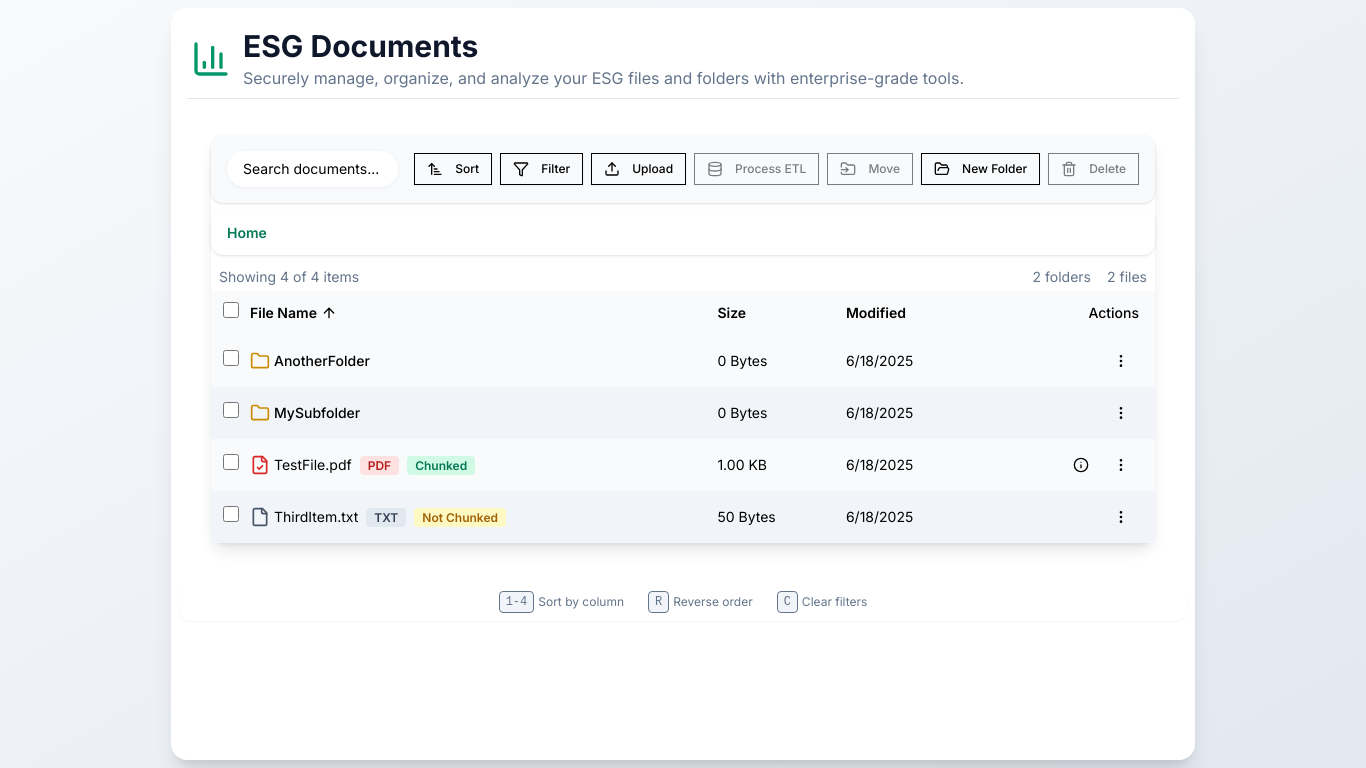
Test: Delete Functionality › should correctly delete an item from a subfolder
Click the text "MySubfolder" at (317,412), box x1=274 y1=402 x2=360 y2=422
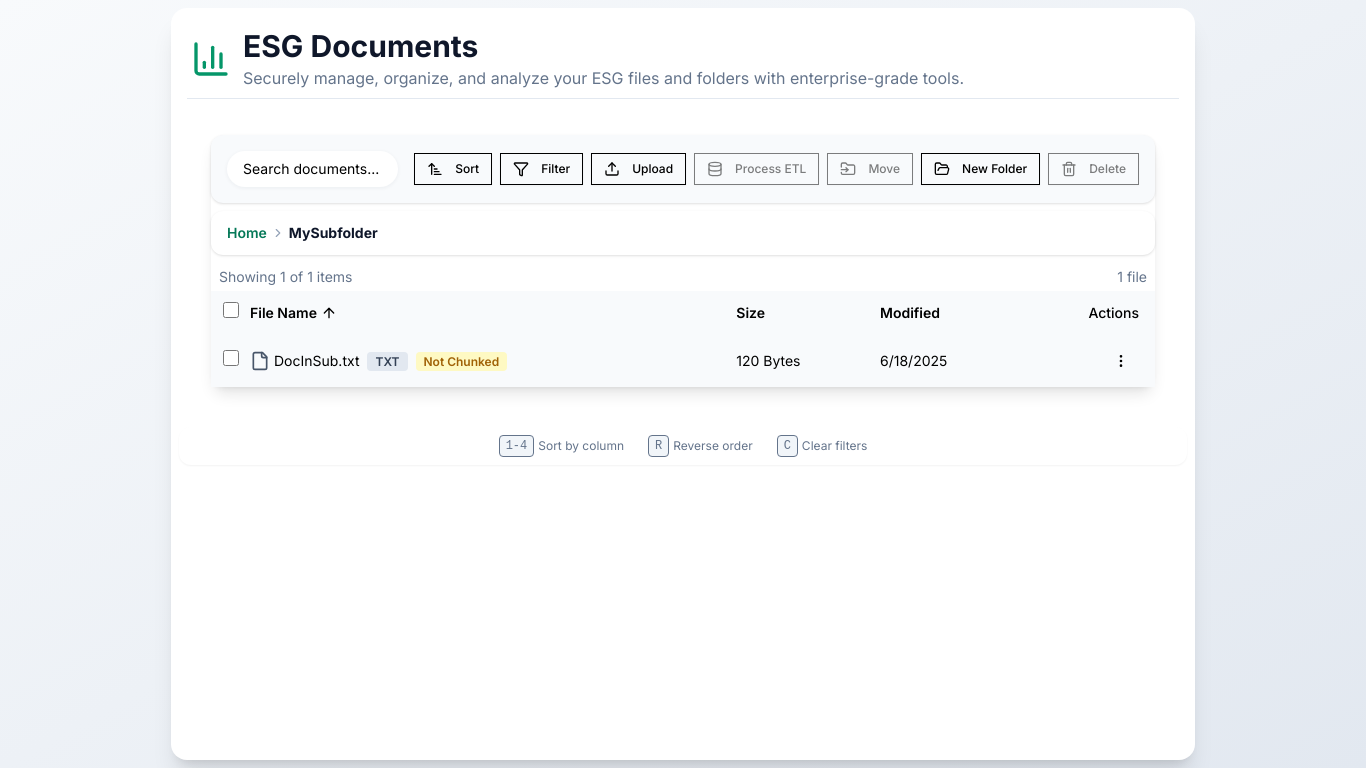
Expected: the text "DocInSub.txt" is shown, x1=274 y1=352 x2=360 y2=368
Click the 2nd checkbox at (231,358), box x1=223 y1=350 x2=239 y2=366
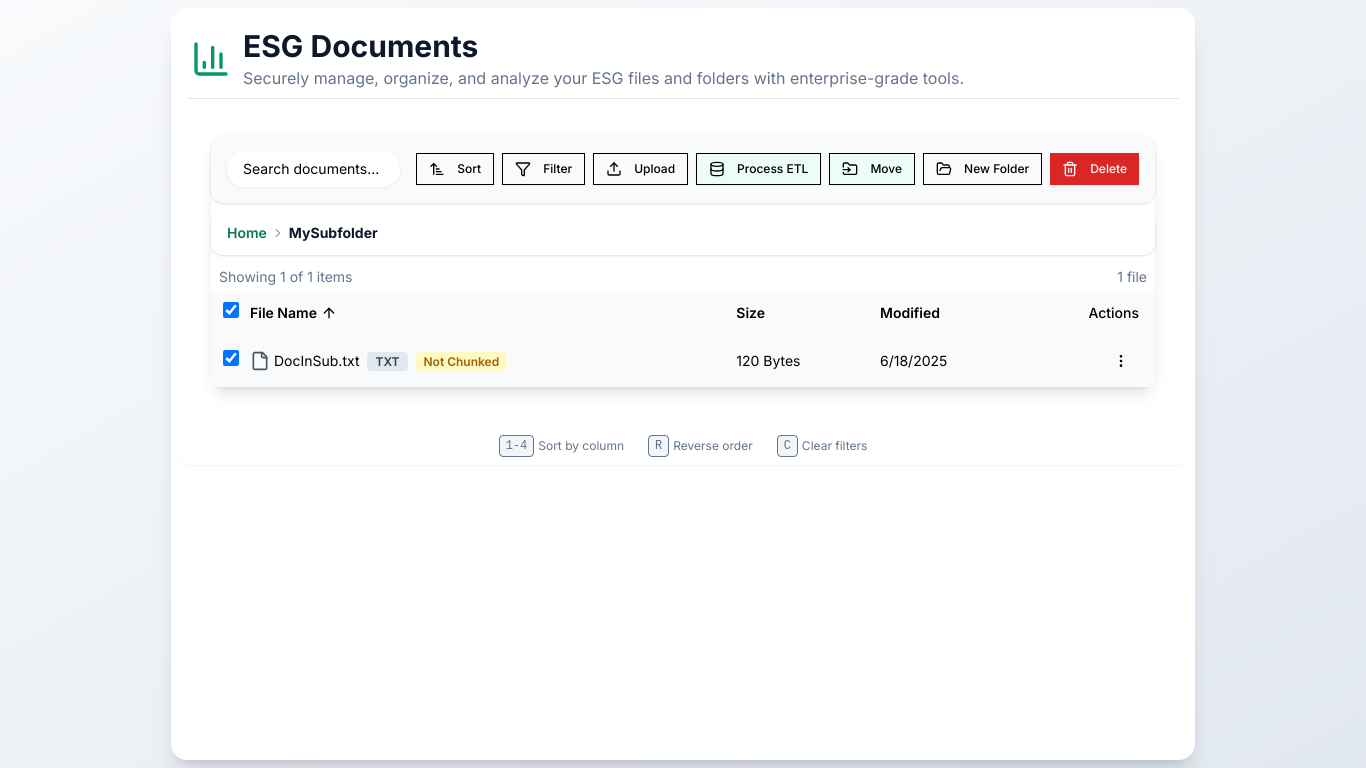
Expected: the 2nd checkbox is checked, x1=223 y1=350 x2=239 y2=366
Expected: the button "Delete" is enabled
Click the Delete button
Click the button "Delete" at (1095,168), box x1=1050 y1=152 x2=1139 y2=184
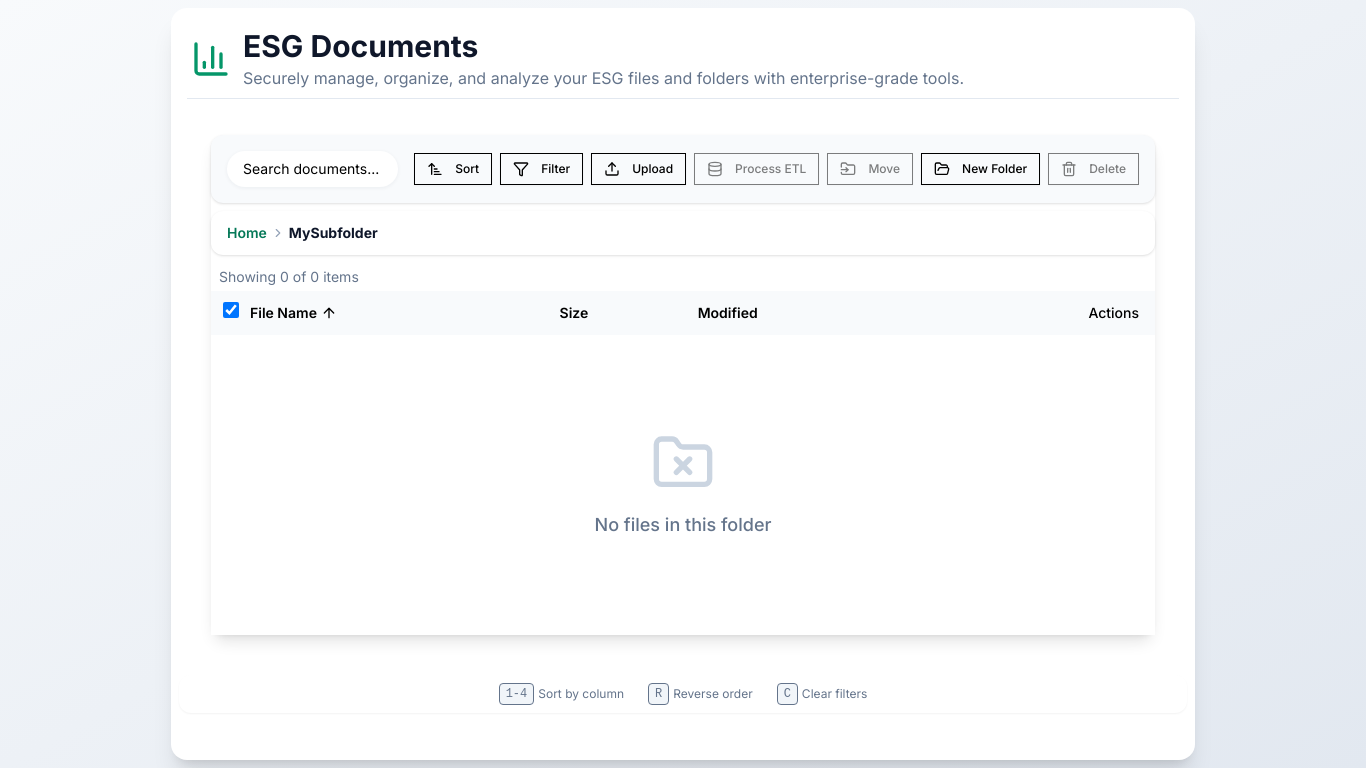
Expected: the text "DocInSub.txt" is gone
Expected: the text "No files in this folder" is shown, x1=594 y1=510 x2=771 y2=538
Expected: the button "Delete" is disabled, x1=1048 y1=152 x2=1139 y2=184
